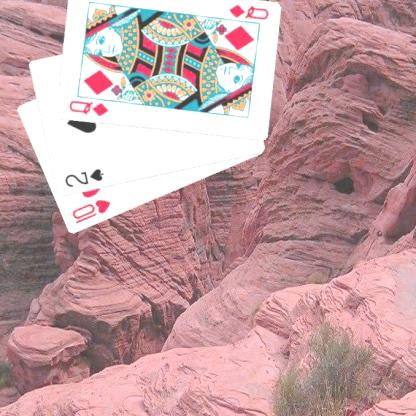10H: (69, 197, 112, 226)
2S: (62, 166, 105, 189)
QD: (225, 1, 270, 22), (66, 98, 109, 119)
